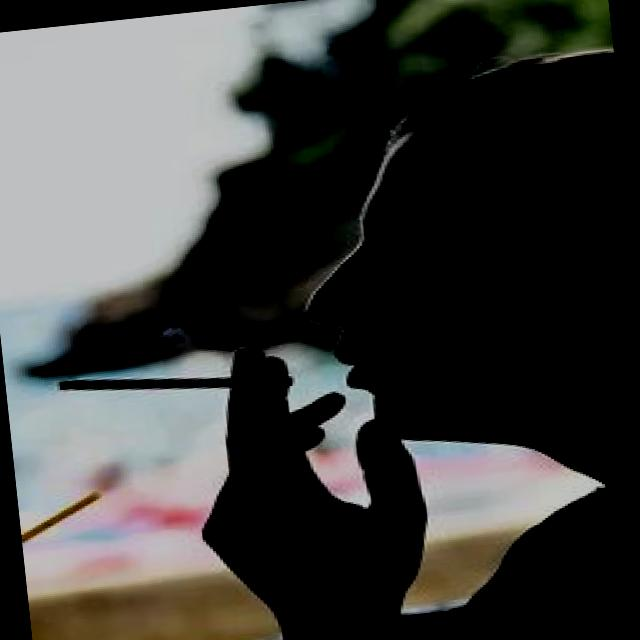smoke: (44, 359, 242, 411)
